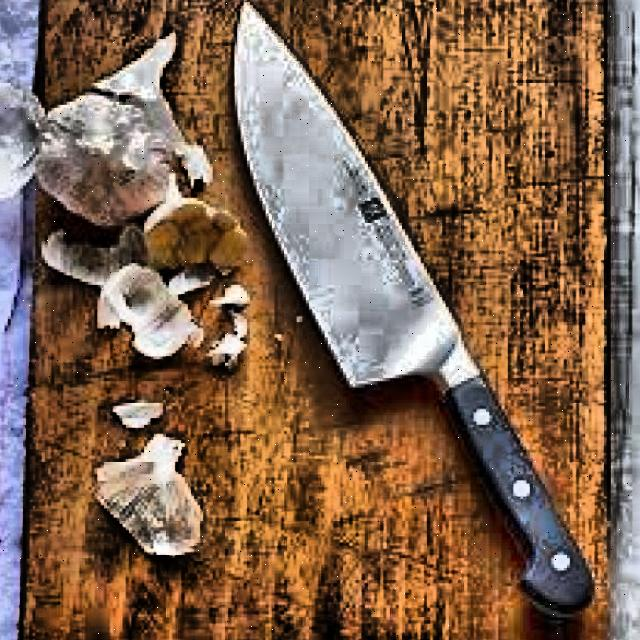knife: (227, 0, 603, 615)
